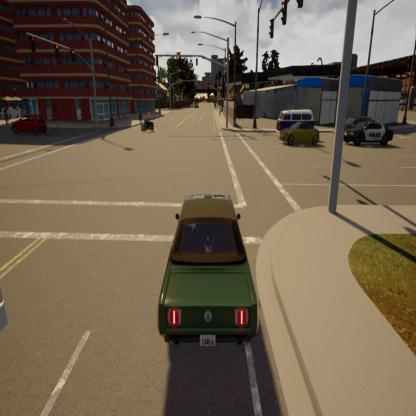Cars: (150, 180, 267, 361), (346, 117, 394, 151), (268, 108, 316, 139), (10, 110, 51, 140), (332, 113, 371, 142), (276, 122, 323, 146)
Pedestrian: (2, 104, 12, 129)
